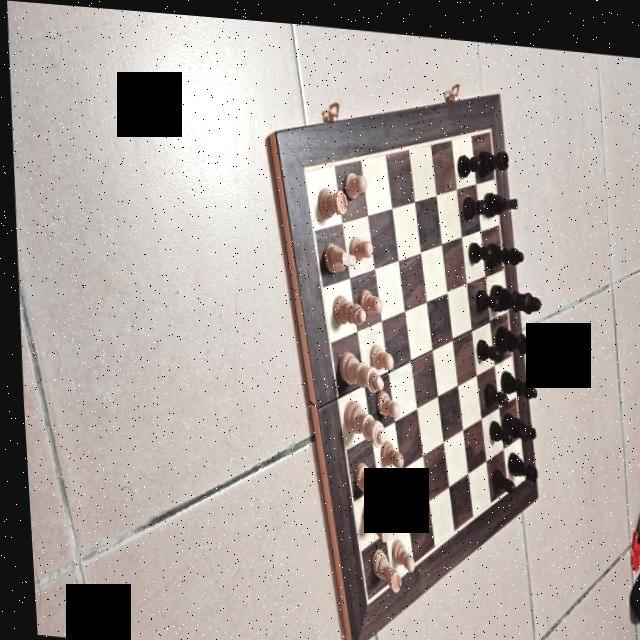chess-table-corners: (298, 156, 306, 174), (354, 587, 363, 603), (485, 116, 491, 129), (517, 468, 519, 474)
